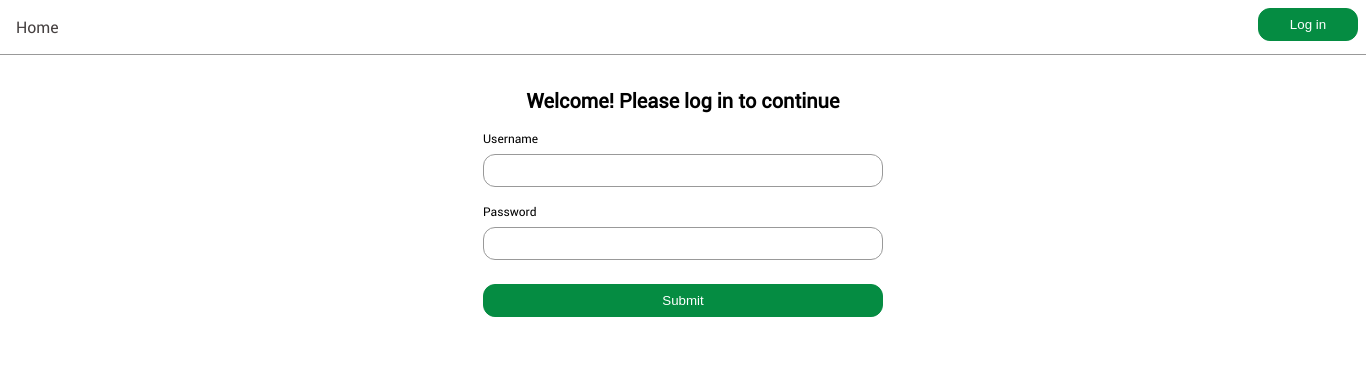
Test: Login screen - Unhappy flows › When I fill in an incorrect password, the login form gives me feedback
Expected: the heading "Welcome! Please log in to continue" is shown, x1=526 y1=79 x2=840 y2=122
Expected: the password field labelled "Password" is shown, x1=483 y1=227 x2=883 y2=260
Type "uncinc" into the field with id "username". click: (683, 171)
box: x1=483 y1=154 x2=883 y2=187
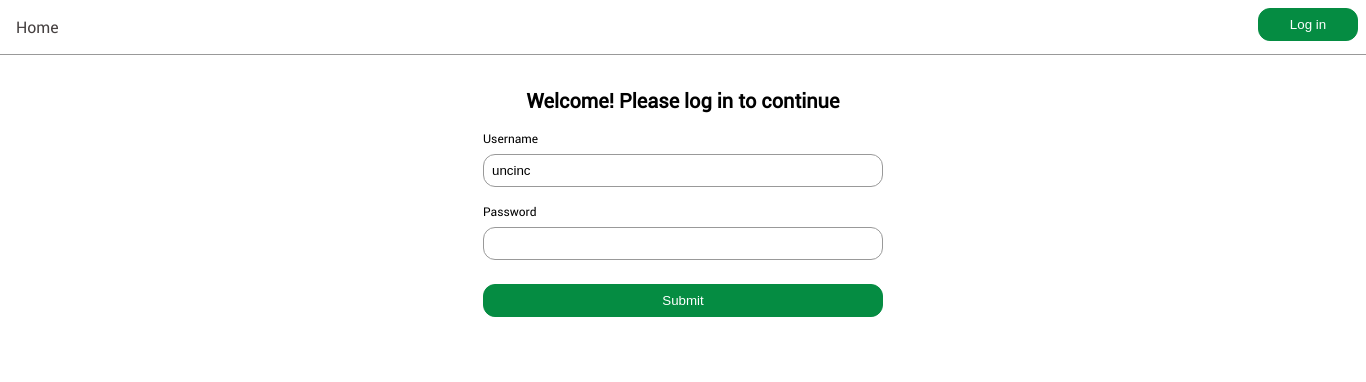
Type "wrongpassword" into the password field labelled "Password". click: (683, 244)
box: x1=483 y1=227 x2=883 y2=260
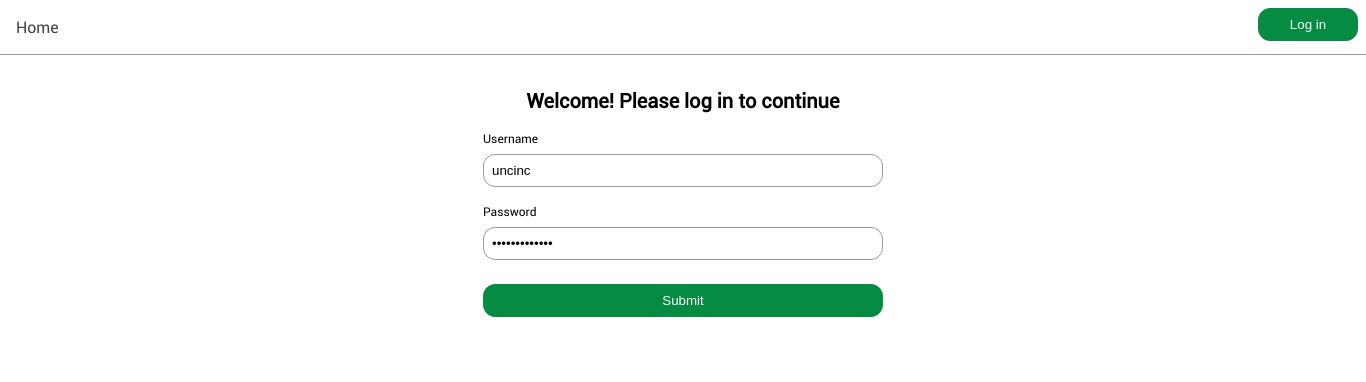
Click the button with id "loginFormSubmit". click: (683, 301)
box: x1=483 y1=284 x2=883 y2=317
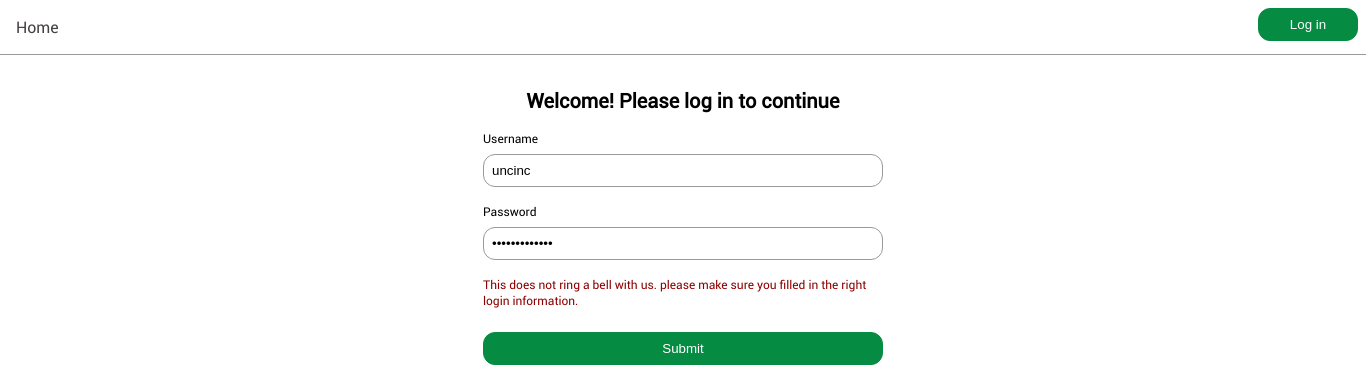
Expected: the text "please make sure you filled in the right login information." is shown, x1=483 y1=276 x2=866 y2=308
